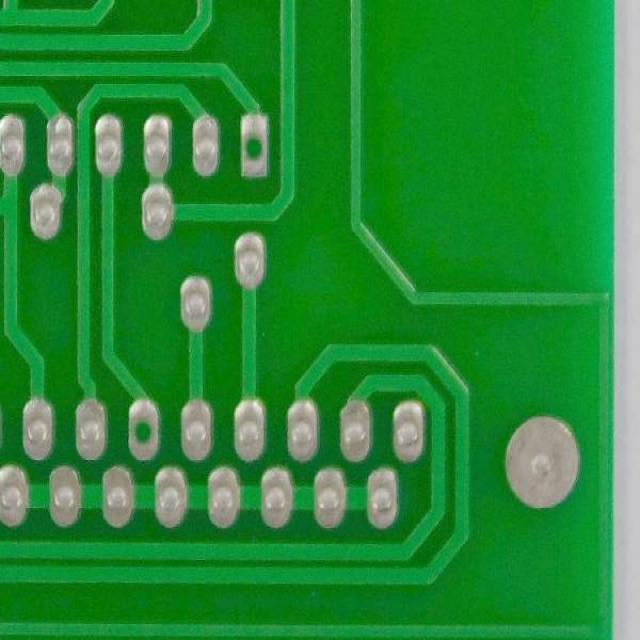missing hole: (120, 392, 166, 469), (237, 109, 273, 184)
